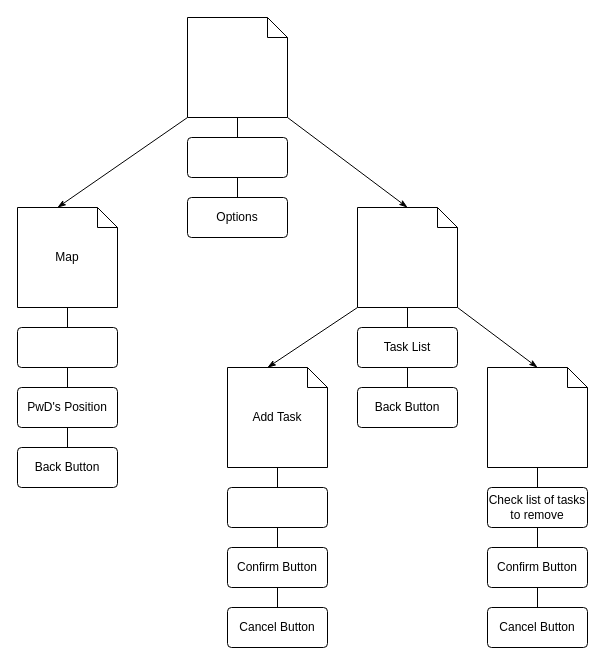
The diagram is 605 pixels wide and 665 high, and some of its shapes have lost their labels. The shapes that lost their labels are listed below. From the top down, each one's box as (x1, y1, x2, y2) in pixels, then its label:
(186, 16, 288, 118): Main Page
(186, 136, 288, 178): Notifications
(356, 206, 458, 308): Schedule
(16, 326, 118, 368): Interactive Map
(486, 366, 588, 468): Remove Tasks
(226, 486, 328, 528): Task Details
